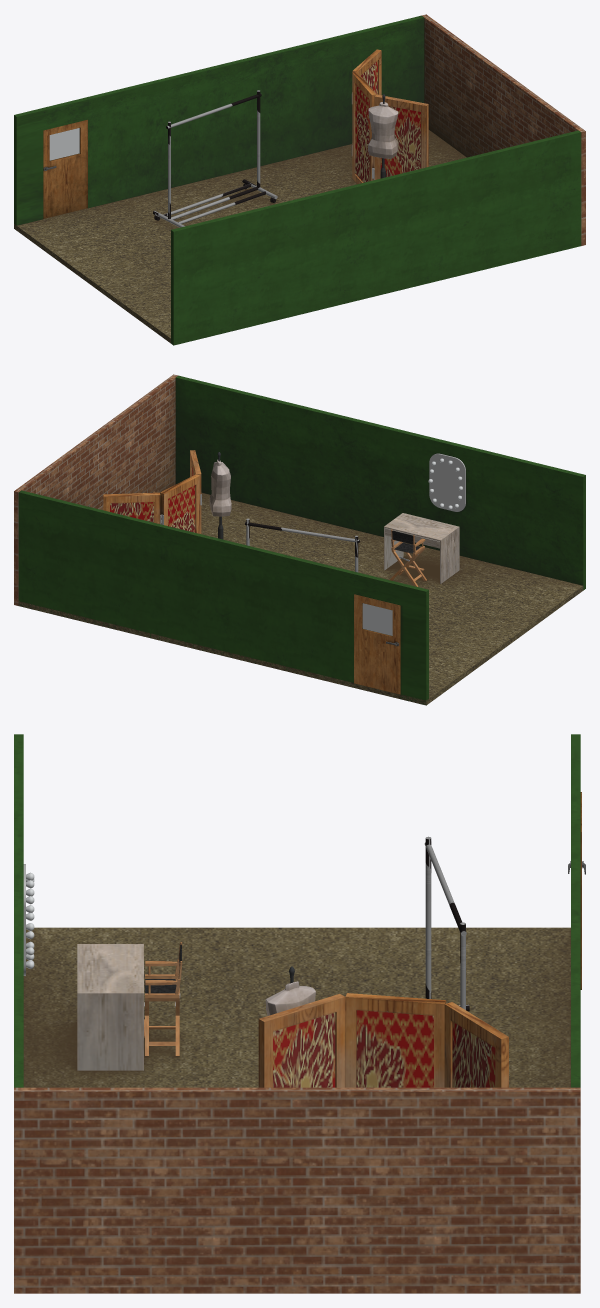
The model's file is drissingroom-withtexture.fbx.
3 views of the same model, one above another, from view 1: azimuth 30°, elevation 25°; view 2: azimuth 150°, elevation 25°; view 3: azimuth 270°, elevation 25° (orthographic). The views are drawn at different scales.
Parts seen in each view (by area): view 1: wall1, wall_door, floor, wall2, wood, wood1, metal1, fabric1; view 2: wall_door, wall1, floor, wall2, wood1, wood, table, mirorr.001, fabric1, wood2, metal1; view 3: wall2, floor, wood, table, wall1, wall_door, metal1, wood2, fabric1, glass.
Boxes of the visible parts, x1,y1,x2,y2 form: wall1: (171, 130, 581, 345); wall_door: (14, 15, 424, 227); floor: (14, 130, 466, 343); wall2: (422, 14, 585, 245); wood: (352, 49, 428, 184); wood1: (43, 119, 87, 218); metal1: (153, 90, 277, 227); fabric1: (367, 102, 398, 158); wall_door: (18, 490, 428, 704); wall1: (175, 375, 585, 590); floor: (18, 492, 583, 705); wall2: (14, 374, 177, 605); wood1: (354, 594, 400, 694); wood: (103, 450, 201, 533); table: (384, 513, 459, 583); mirorr.001: (429, 453, 465, 511); fabric1: (209, 459, 231, 516); wood2: (389, 529, 426, 586); metal1: (245, 518, 359, 572); wall2: (14, 1087, 580, 1293); floor: (23, 927, 570, 1087); wood: (258, 993, 508, 1087); table: (77, 944, 143, 1070); wall1: (14, 734, 23, 1087); wall_door: (571, 734, 580, 1087); metal1: (424, 836, 469, 1011); wood2: (144, 942, 182, 1055); fabric1: (265, 981, 315, 1015); glass: (26, 872, 34, 968).
Size of the model in its own units: 15.17 by 4.35 by 10.27.
Materials: 10 (10 with a texture image).
